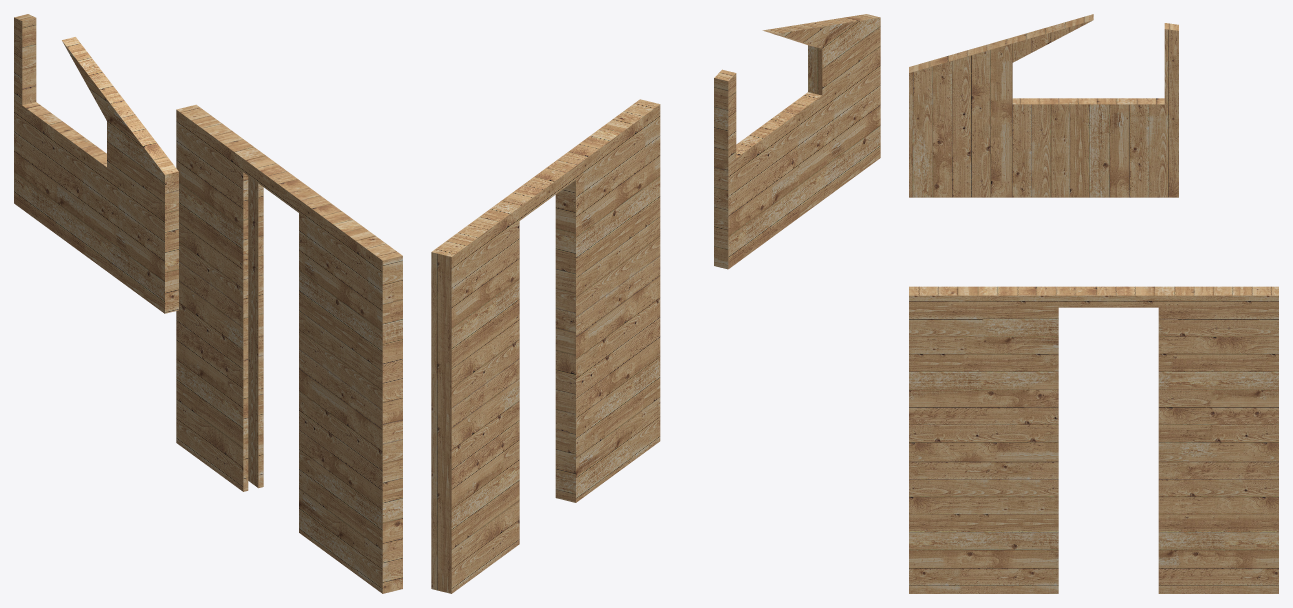
File: InnerWallEast.glb
The picture shows the model from 3 angles, left to right: view 1: azimuth 30°, elevation 25°; view 2: azimuth 150°, elevation 25°; view 3: azimuth 270°, elevation 25°; orthographic projection. The views are drawn at different scales.
Visible parts, largest first — view 1: Pared2; view 2: Pared2; view 3: Pared2.
Part boxes in pixels (x1,y1,x2,y2): Pared2: [14, 14, 402, 593]; Pared2: [431, 14, 880, 593]; Pared2: [909, 14, 1278, 593].
Bounding box in the file's own units: 150 × 321 × 226.
Materials: 1 (1 with a texture image).
